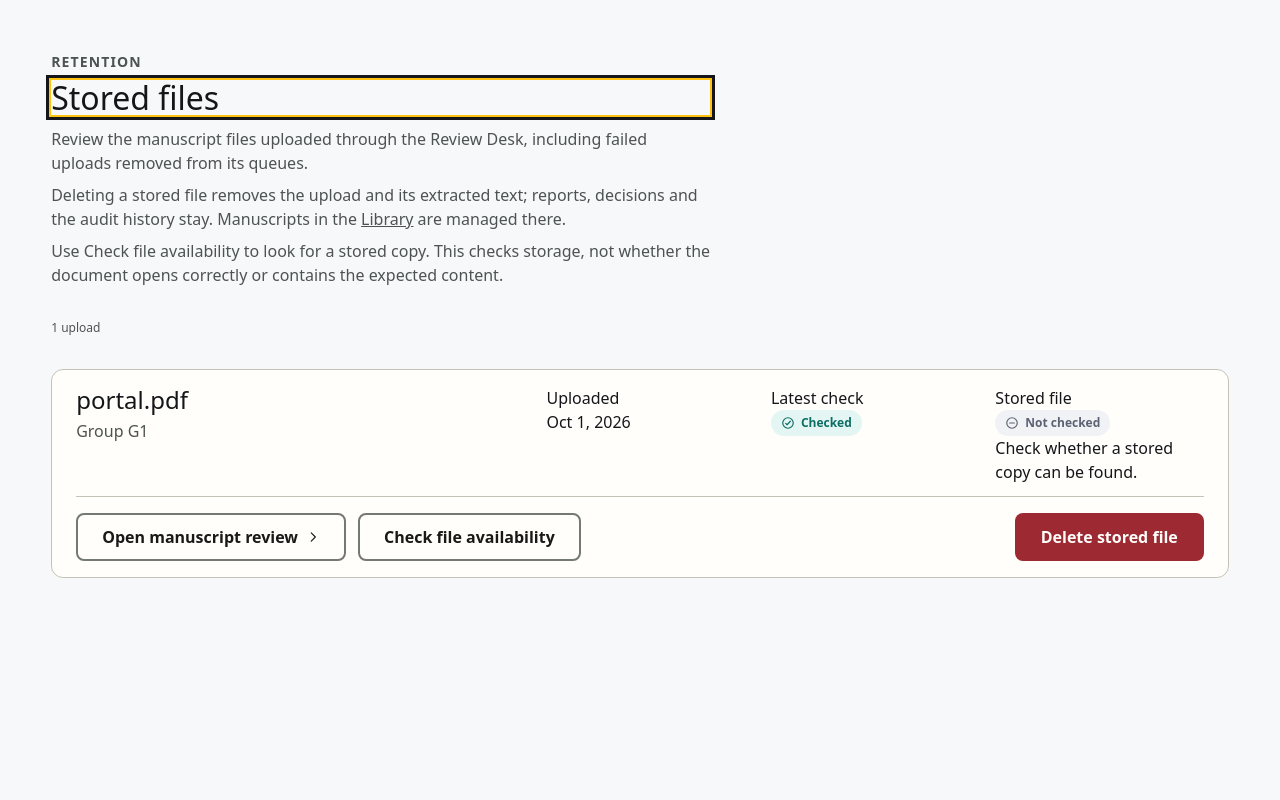
Test case: Stored files (V-078) › keeps the dialog open with the server's reason when the delete is refused
Click the button "Delete stored file" at (1109, 537), box x1=1015 y1=513 x2=1204 y2=561
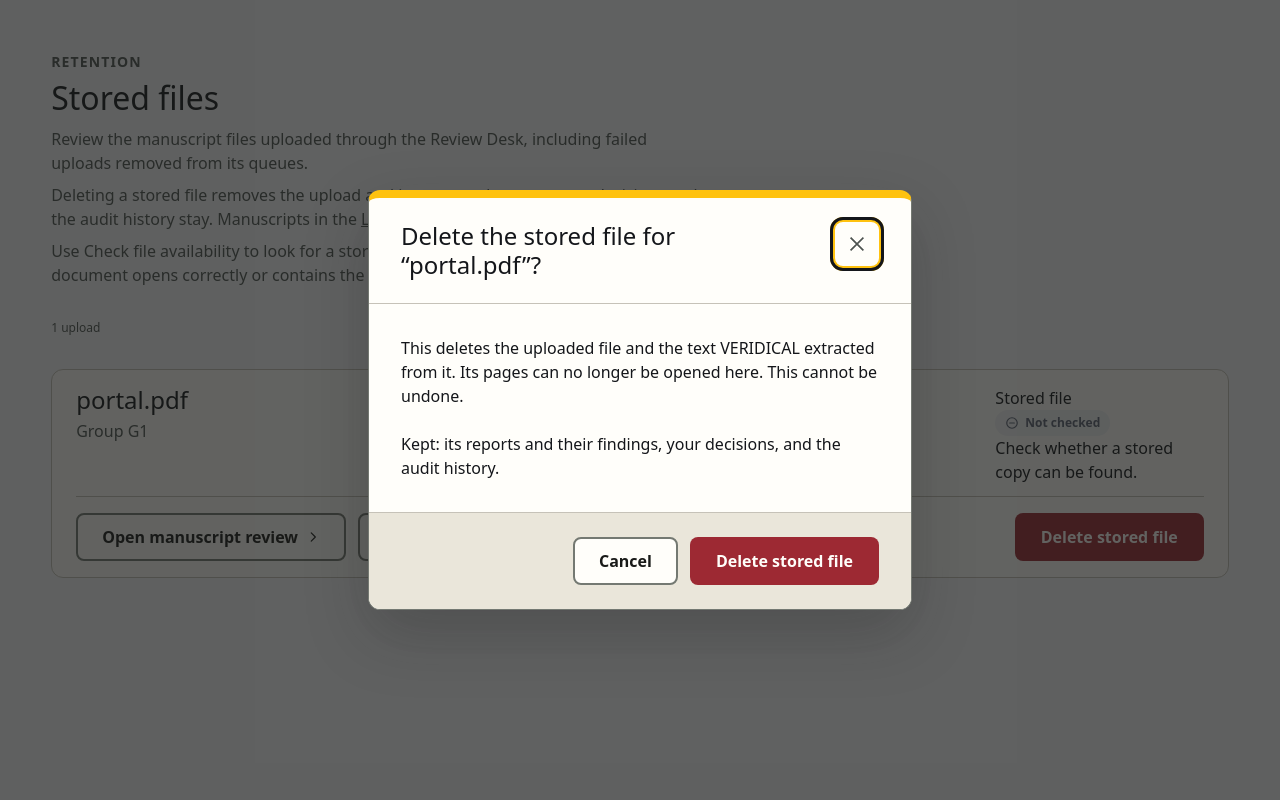
Click the button "Delete stored file" at (784, 561), box x1=690 y1=537 x2=879 y2=585
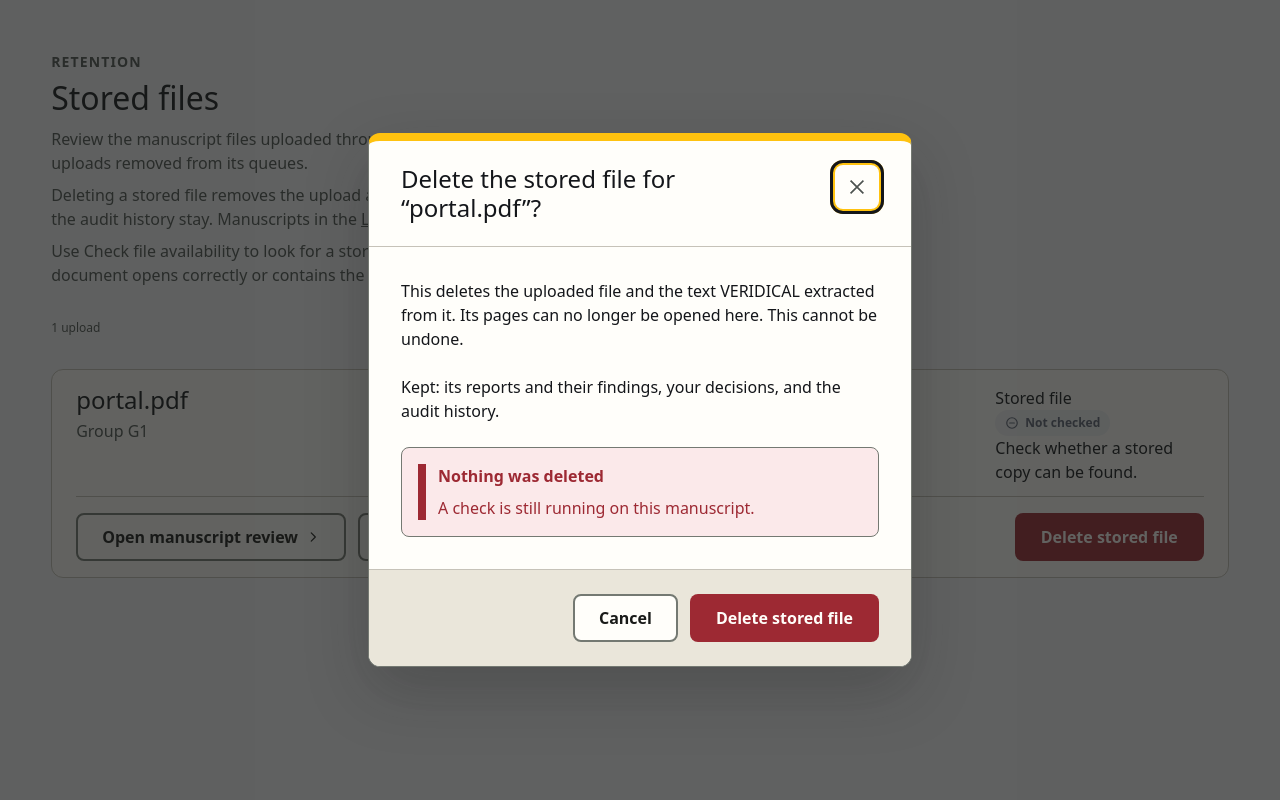
Expected: the message shows "Nothing was deleted", x1=438 y1=465 x2=604 y2=487
Expected: the message shows "A check is still running on this manuscript.", x1=438 y1=497 x2=755 y2=519
